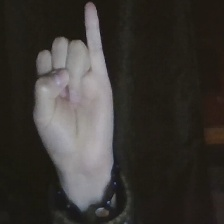I: (28, 1, 123, 160)
